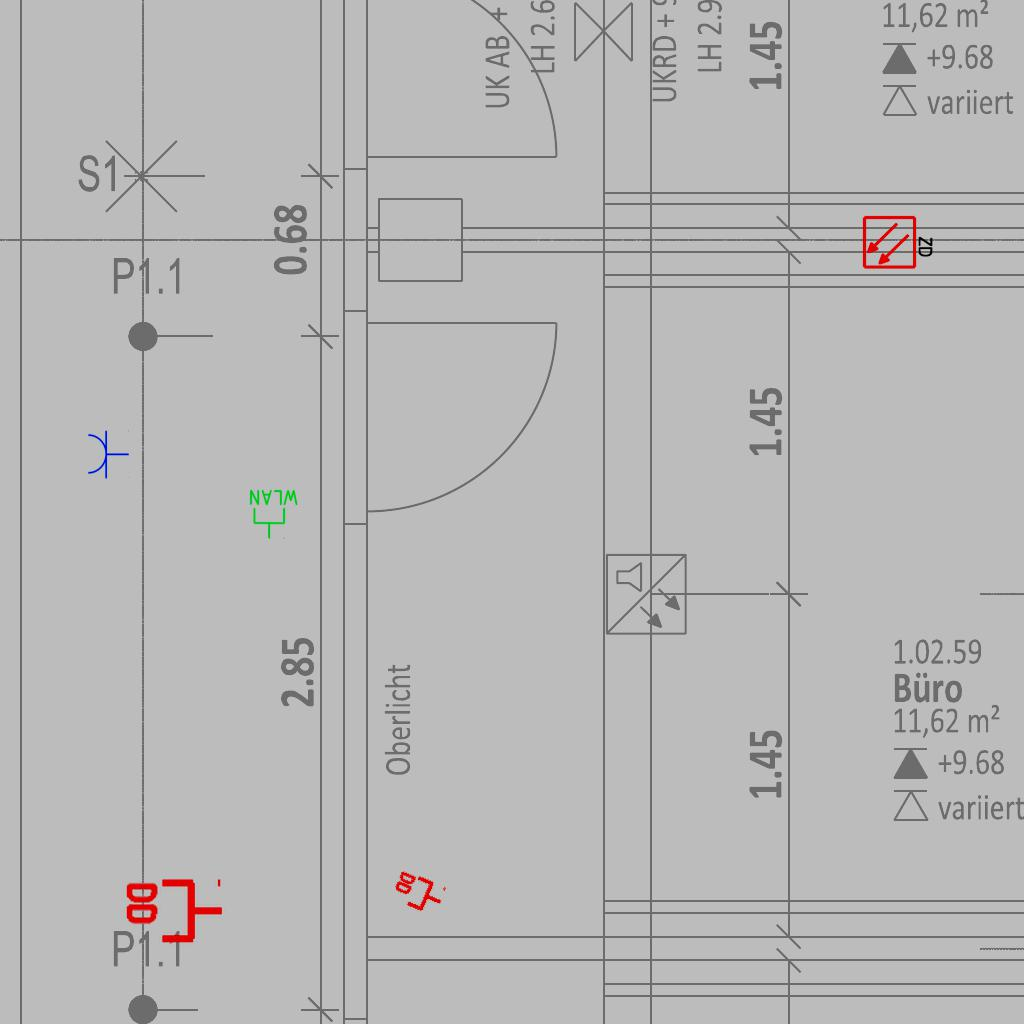Datenanschluss_zweifach: (122, 878, 225, 947), (387, 867, 449, 920)
Schukosteckdose_einfach: (86, 429, 129, 479)
WLAN: (248, 488, 300, 540)
ZD_Melder_in_Zwischendecke_mit_Revisionsoeffnung_mind_40_x_40_cm: (862, 213, 936, 270)
